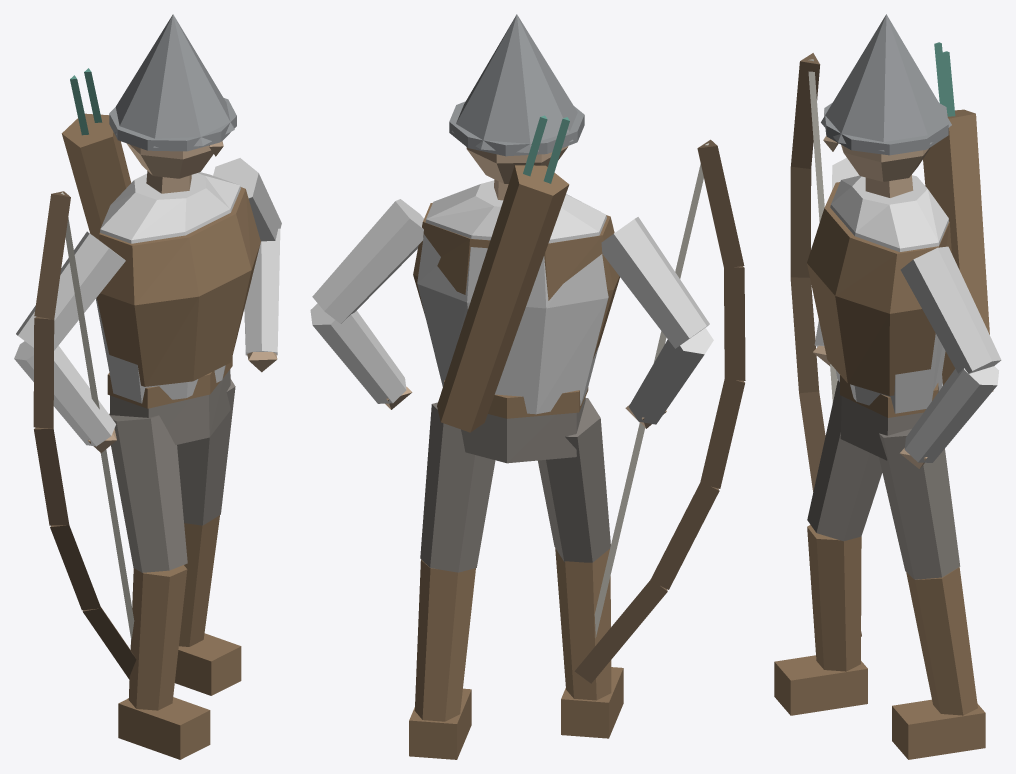
Rendered from composite-bowman.glb.
The picture shows the model from 3 angles, left to right: view 1: azimuth 30°, elevation 25°; view 2: azimuth 150°, elevation 25°; view 3: azimuth 270°, elevation 25°; orthographic projection. The views are drawn at different scales.
Parts seen in each view (by area): view 1: LOD0; view 2: LOD0; view 3: LOD0.
Boxes of the visible parts, left/top/right/bottom form: LOD0: left=14, top=14, right=281, bottom=759; LOD0: left=310, top=14, right=745, bottom=759; LOD0: left=774, top=14, right=1001, bottom=759.
Size of what is drawn, in the model's own units: 0.5239 by 1.04 by 0.3038.
